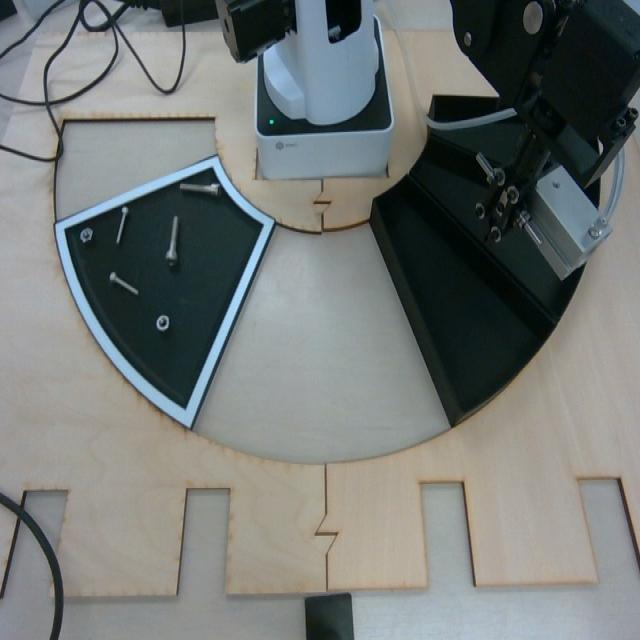Big Bolt: (162, 212, 184, 270), (178, 177, 223, 202)
Metal Nut: (153, 311, 174, 337), (79, 224, 95, 249)
Small Bolt: (108, 269, 142, 298), (112, 202, 132, 248)
